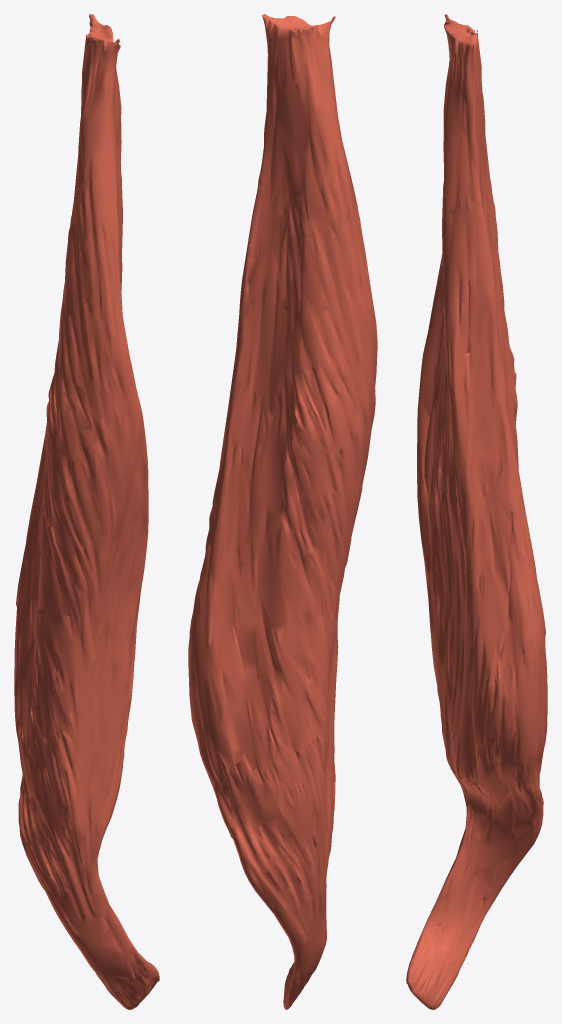
The model's file is semimembranosus.glb.
The picture shows the model from 3 angles, left to right: view 1: azimuth 90°, elevation 25°; view 2: azimuth 150°, elevation 25°; view 3: azimuth 270°, elevation 25°; orthographic projection. The views are drawn at different scales.
Visible parts, largest first — view 1: Semimembranosus muscle.l; view 2: Semimembranosus muscle.l; view 3: Semimembranosus muscle.l.
Part boxes in pixels (<box>): Semimembranosus muscle.l: <box>14,14,159,1009</box>; Semimembranosus muscle.l: <box>188,14,377,1009</box>; Semimembranosus muscle.l: <box>406,14,547,1009</box>.
Size of the model in its own units: 0.0637 by 0.4177 by 0.0552.
